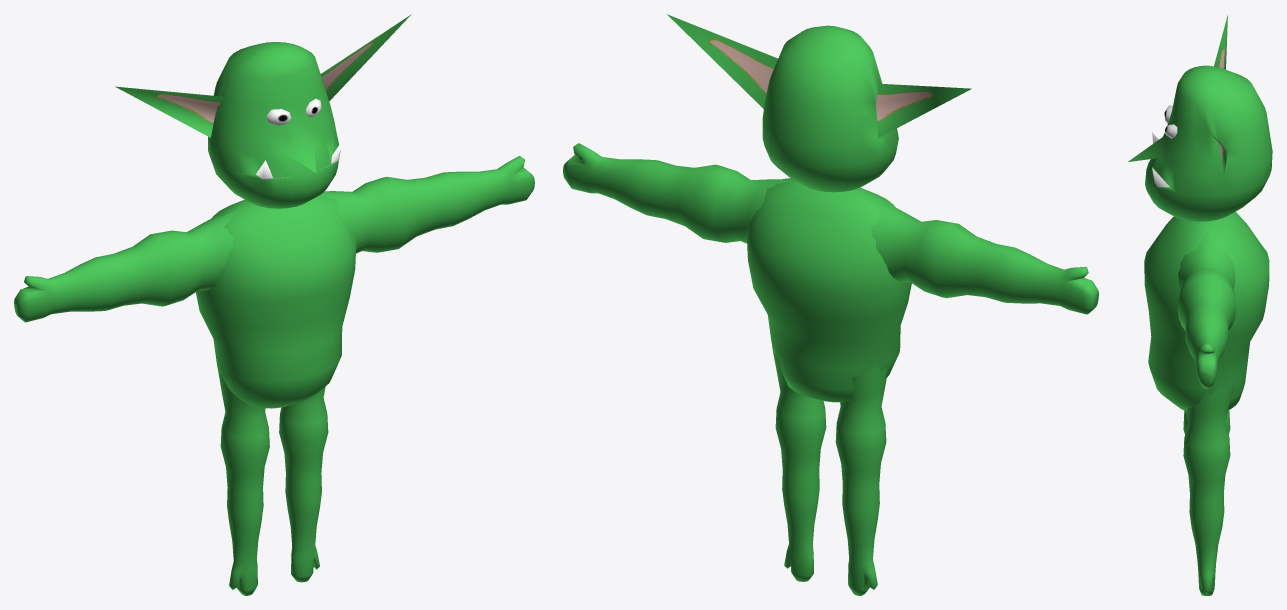
The model's file is goblin.fbx.
3 renders of one model, left to right at view 1: azimuth 30°, elevation 25°; view 2: azimuth 150°, elevation 25°; view 3: azimuth 270°, elevation 25°, orthographic. The views are drawn at different scales.
Parts seen in each view (by area): view 1: Sphere.008; view 2: Sphere.008; view 3: Sphere.008.
Part boxes in pixels (x1,y1,x2,y2): Sphere.008: [14, 14, 534, 595]; Sphere.008: [563, 14, 1098, 595]; Sphere.008: [1128, 15, 1272, 595].
Size of the model in its own units: 130 by 131 by 33.79.
